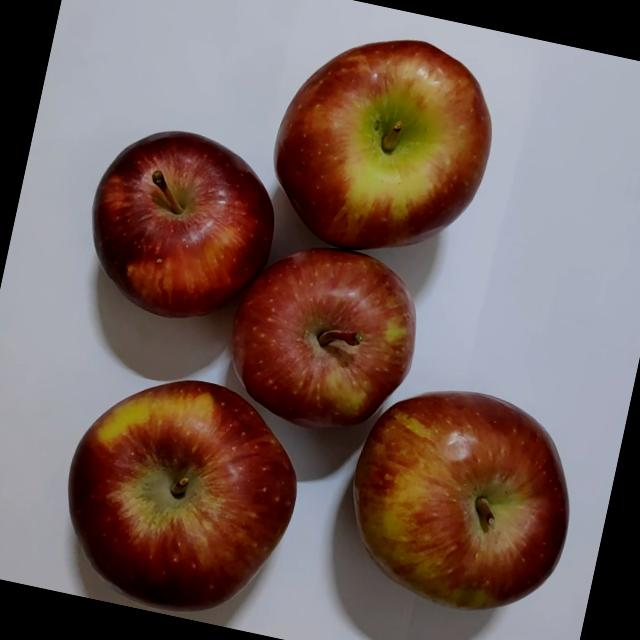apple: (46, 348, 324, 634), (322, 362, 594, 632), (252, 28, 509, 291), (76, 122, 293, 344), (216, 236, 432, 450)
